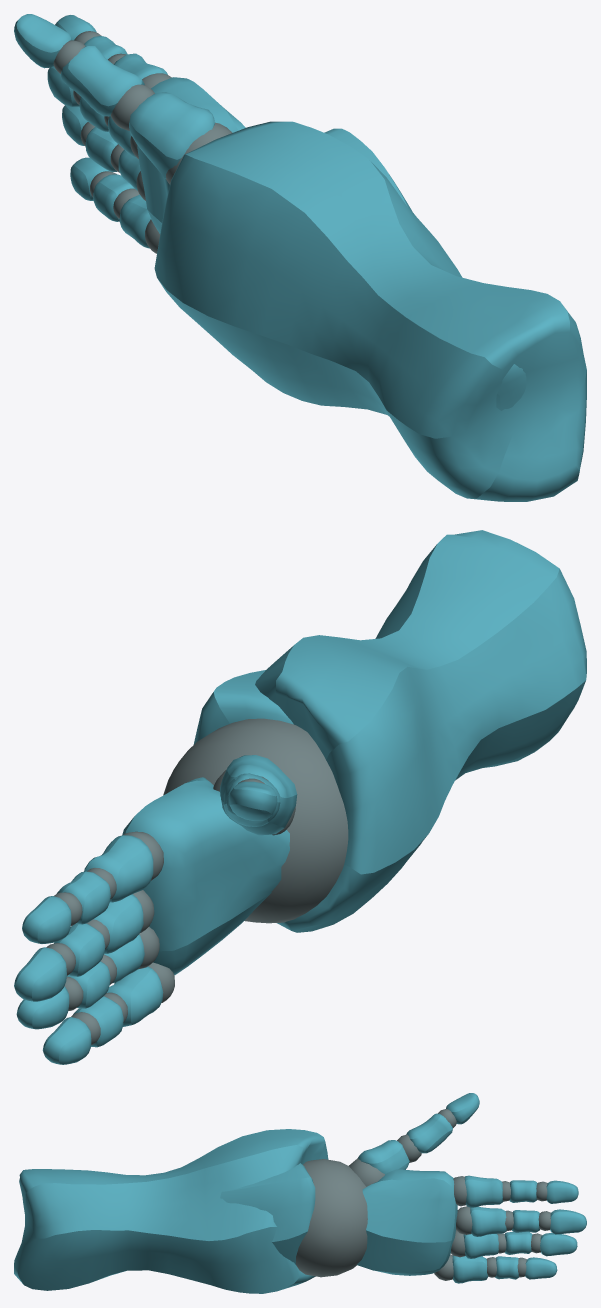
File: armR.glb
The picture shows the model from 3 angles, top to bottom: view 1: azimuth 30°, elevation 25°; view 2: azimuth 150°, elevation 25°; view 3: azimuth 270°, elevation 25°; orthographic projection. The views are drawn at different scales.
Visible parts, largest first — view 1: Upper_Arm, Hand, Hand_Joints, Forearm; view 2: Upper_Arm, Hand, Shoulder, Hand_Joints, Forearm; view 3: Upper_Arm, Hand, Shoulder, Forearm, Hand_Joints.
Boxes of the visible parts, x1=… form: Upper_Arm: x1=154, y1=121, x2=586, y2=501; Hand: x1=14, y1=14, x2=245, y2=248; Hand_Joints: x1=53, y1=31, x2=232, y2=253; Forearm: x1=324, y1=128, x2=526, y2=410; Upper_Arm: x1=255, y1=530, x2=586, y2=932; Hand: x1=14, y1=755, x2=297, y2=1064; Shoulder: x1=163, y1=718, x2=348, y2=923; Hand_Joints: x1=46, y1=770, x2=295, y2=1044; Forearm: x1=193, y1=670, x2=293, y2=744; Upper_Arm: x1=14, y1=1129, x2=328, y2=1293; Hand: x1=357, y1=1093, x2=586, y2=1283; Shoulder: x1=296, y1=1159, x2=367, y2=1277; Forearm: x1=220, y1=1163, x2=315, y2=1264; Hand_Joints: x1=349, y1=1109, x2=550, y2=1280.
Bounding box in the file's own units: 0.45 × 0.4901 × 1.63.
